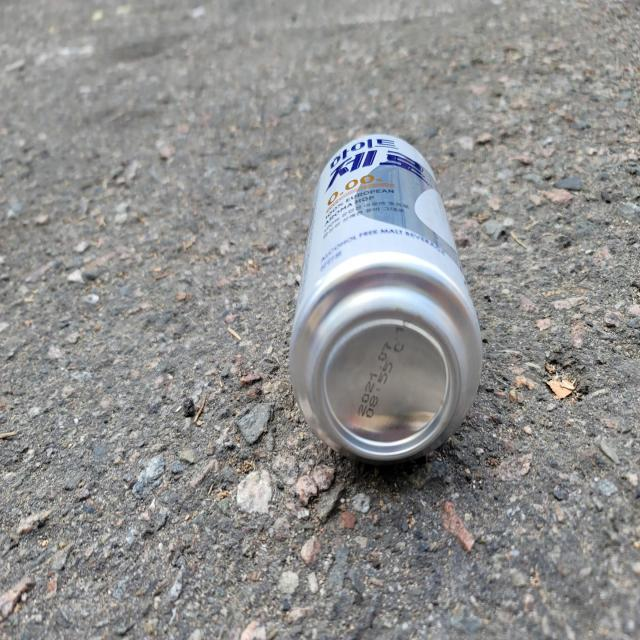can: (290, 133, 483, 463)
